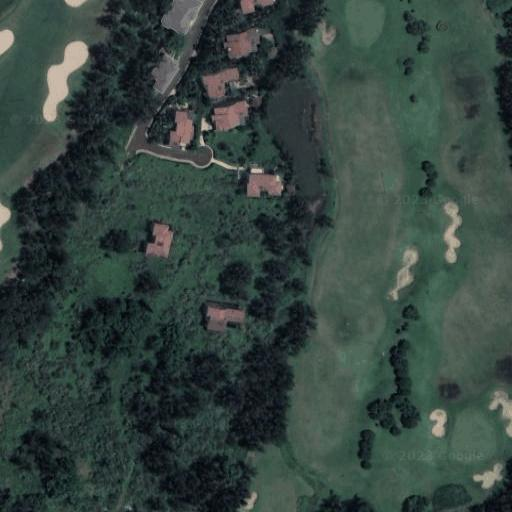building: (224, 27, 265, 60), (150, 52, 182, 93), (203, 66, 241, 100), (213, 101, 250, 132), (144, 219, 172, 258), (206, 307, 245, 331), (169, 112, 196, 145), (247, 174, 283, 198)
